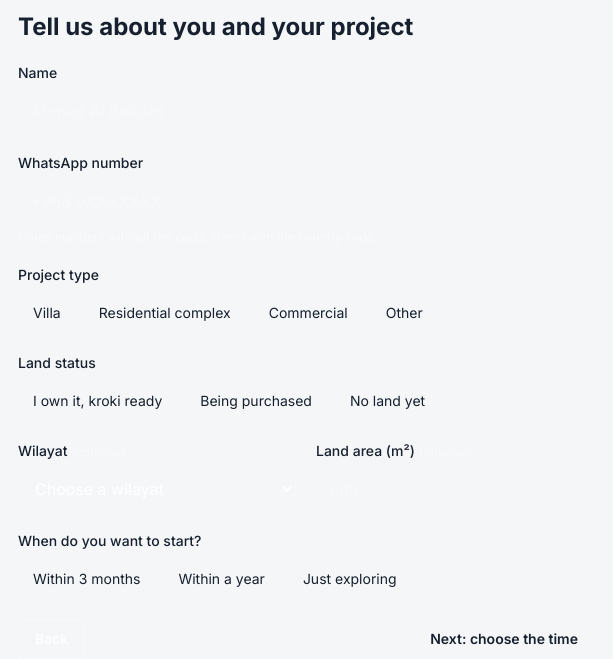
step 1 shows what is missing and does not move on
The image size is (613, 659).
(page scrolled)
Click the button "Next: choose the time" at (504, 639), box [414,619,594,658]
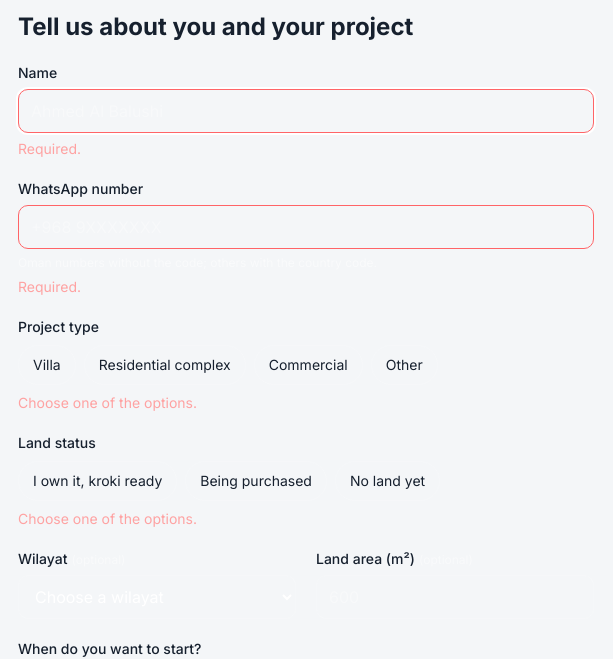
Expected: the text "Required." is shown, [18,140,81,157]
